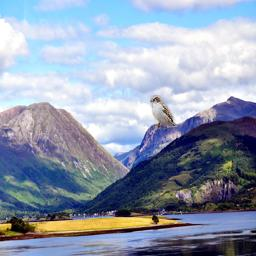Sparrow: (150, 95, 178, 129)
